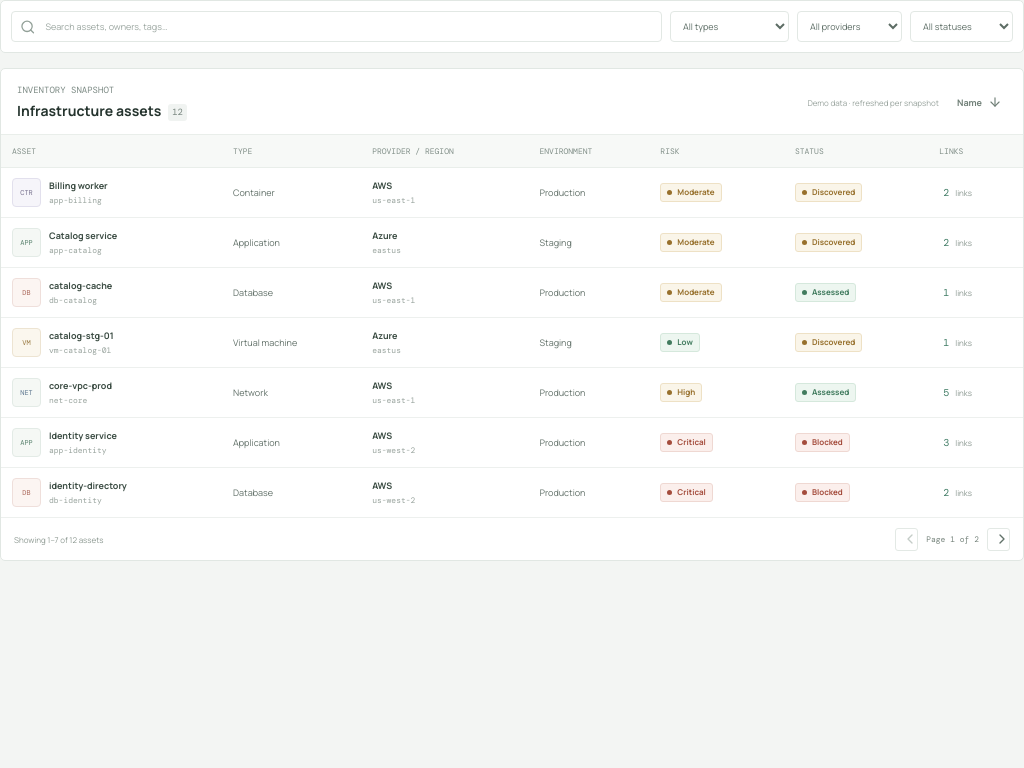
Test: AssetExplorer › filters the inventory by resource type
Check: the heading "Infrastructure assets 12" is shown, box [17,101,187,120]
Step 1. Select "Database" in the 1st dropdown named "Filter by type" → (730,26), box [670,11,789,42]
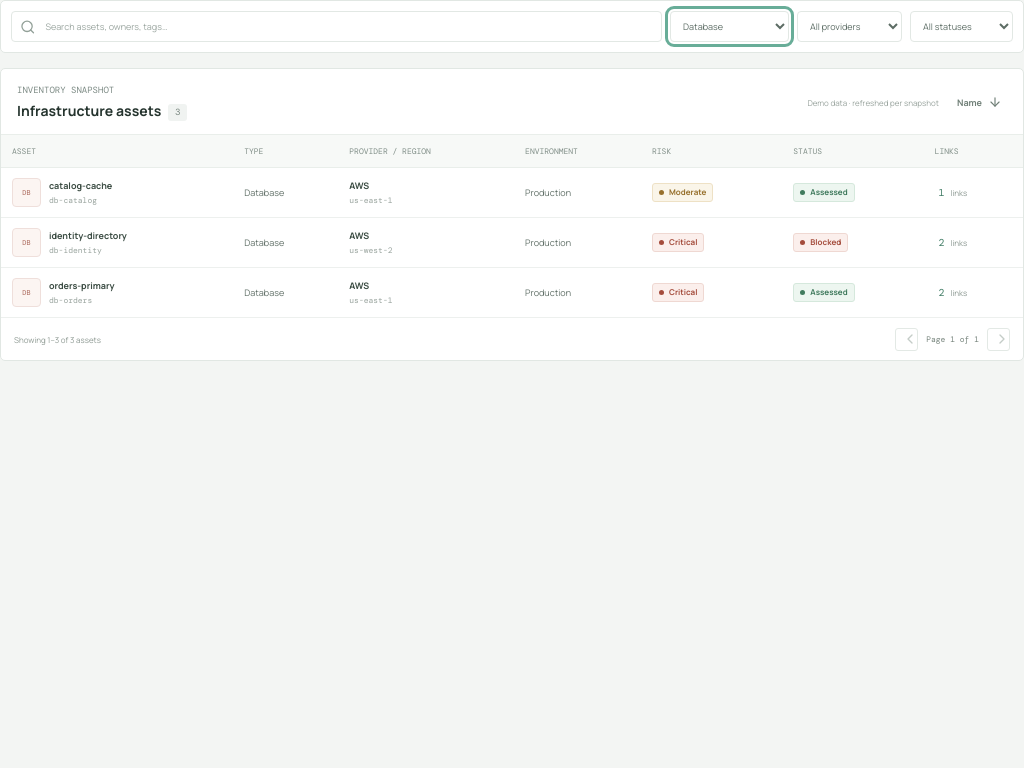
Check: the row "orders-primary" is shown, box [1,267,1023,317]
